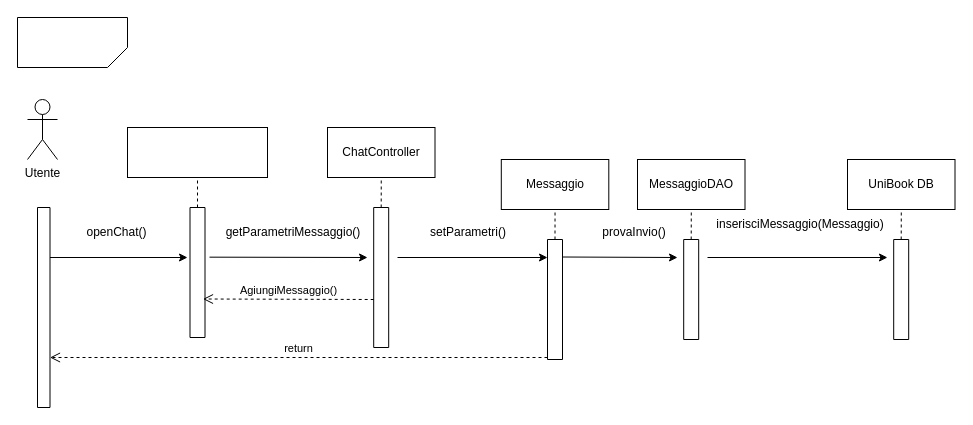
Image size: 973x425. Some labels were removed from this diagram. The shapes that lost their labels are listed below. From the top down, each one's centre as x and y in pixels, then its label:
At point (72, 42): "Chat".
At point (197, 152): "ChatView".
